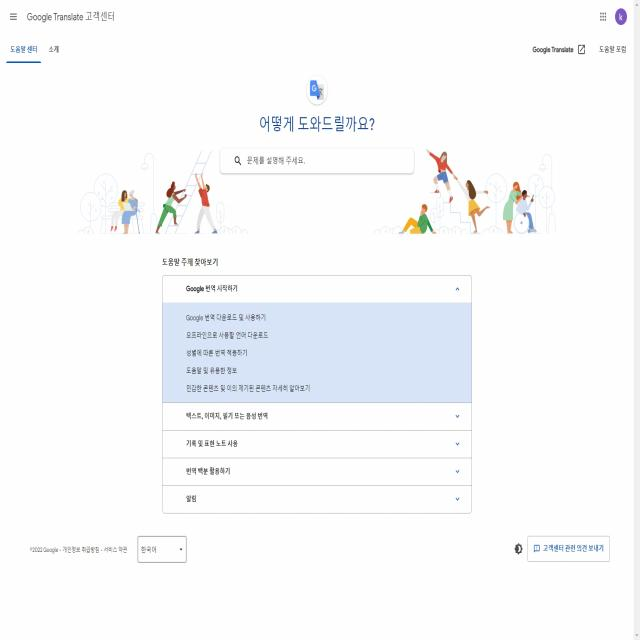menu-bar: (4, 37, 66, 65), (593, 5, 631, 28), (6, 2, 22, 30)
search: (218, 145, 416, 175)
